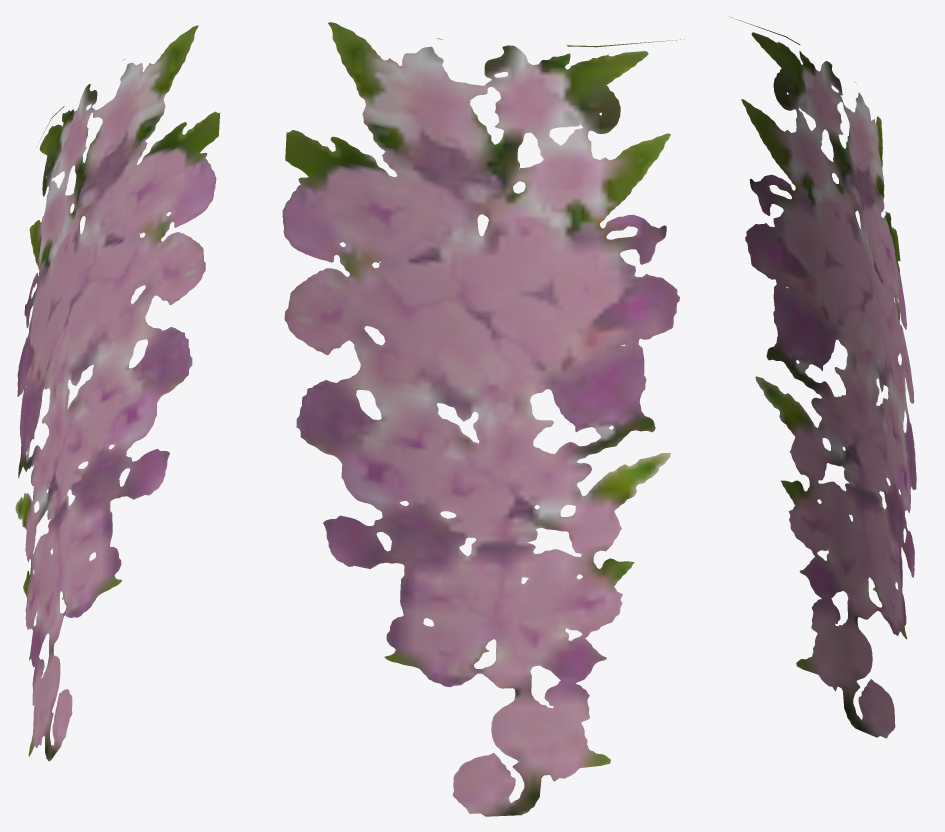
Rendered from liemo_plant_10 (22).fbx.
The picture shows the model from 3 angles, left to right: view 1: azimuth 30°, elevation 25°; view 2: azimuth 150°, elevation 25°; view 3: azimuth 270°, elevation 25°; orthographic projection. The views are drawn at different scales.
Parts seen in each view (by area): view 1: liemo_plant_10 (22); view 2: liemo_plant_10 (22); view 3: liemo_plant_10 (22).
Boxes of the visible parts, bbox=[...] form: liemo_plant_10 (22): bbox=[15, 25, 220, 761]; liemo_plant_10 (22): bbox=[282, 22, 684, 816]; liemo_plant_10 (22): bbox=[730, 17, 916, 738].
Bounding box in the file's own units: 0.779 × 1.77 × 0.4869.
